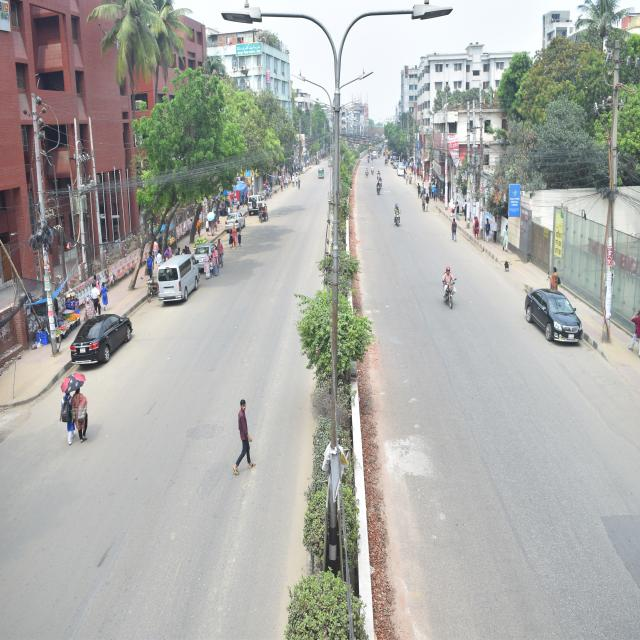car: (505, 259, 593, 399), (61, 290, 172, 377), (180, 223, 230, 292), (212, 190, 263, 251), (236, 173, 288, 222), (396, 158, 416, 190)
microbus: (150, 237, 231, 332)
motorbike: (427, 252, 463, 328), (388, 196, 412, 247), (374, 166, 387, 193), (374, 177, 386, 205), (362, 163, 374, 184), (368, 158, 374, 184)
